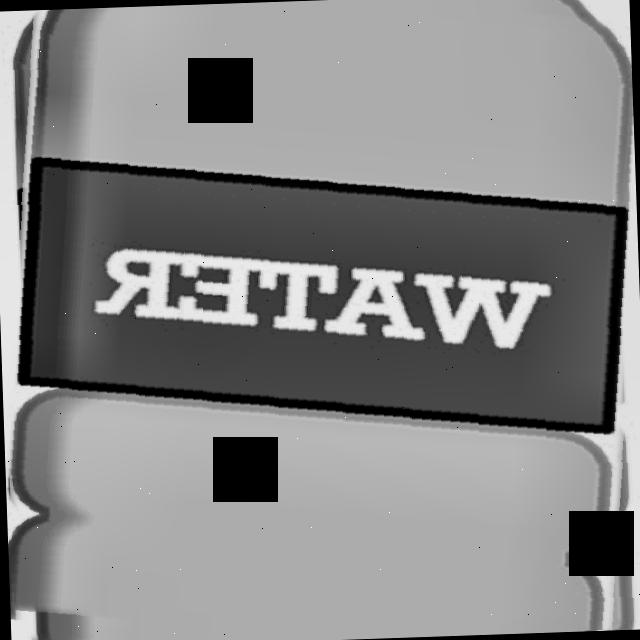bottle: (7, 0, 636, 636)
